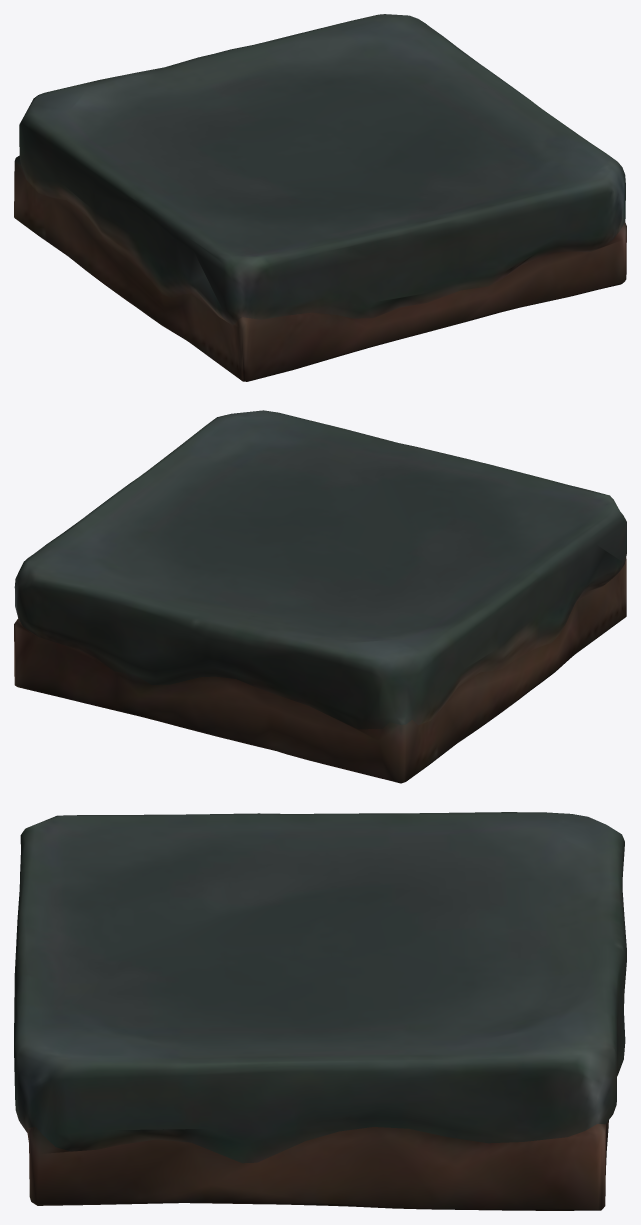
Rendered from t05_agua_escura.glb.
3 renders of one model, top to bottom at view 1: azimuth 30°, elevation 25°; view 2: azimuth 150°, elevation 25°; view 3: azimuth 270°, elevation 25°, orthographic. The views are drawn at different scales.
Parts seen in each view (by area): view 1: t05_agua_escura; view 2: t05_agua_escura; view 3: t05_agua_escura.
Part boxes in pixels (<box>): t05_agua_escura: <box>14,14,626,381</box>; t05_agua_escura: <box>14,410,626,783</box>; t05_agua_escura: <box>14,812,626,1210</box>.
Size of the model in its own units: 0.9949 by 0.2837 by 1.01.
1 material, 1 textured.
